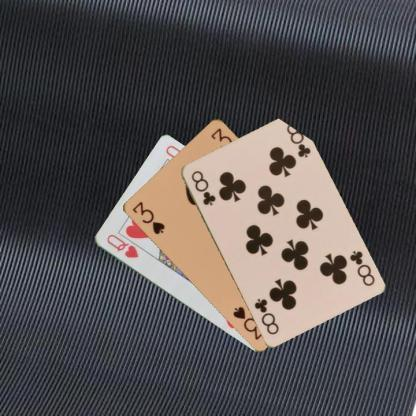3s: (129, 198, 166, 236)
8c: (346, 248, 376, 288), (188, 168, 217, 206)
Qh: (104, 231, 140, 260)
